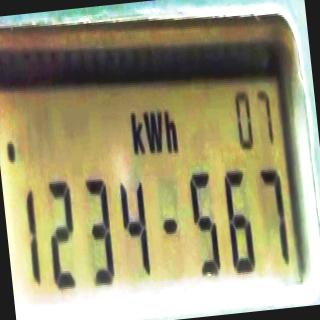-: (159, 207, 179, 242), (3, 133, 17, 168)
0: (230, 80, 256, 158)
1: (21, 182, 46, 294)
2: (41, 165, 82, 302)
3: (82, 167, 120, 298)
4: (116, 170, 154, 286)
5: (184, 162, 225, 286)
6: (218, 160, 259, 278)
7: (256, 160, 292, 281), (254, 81, 276, 148)
